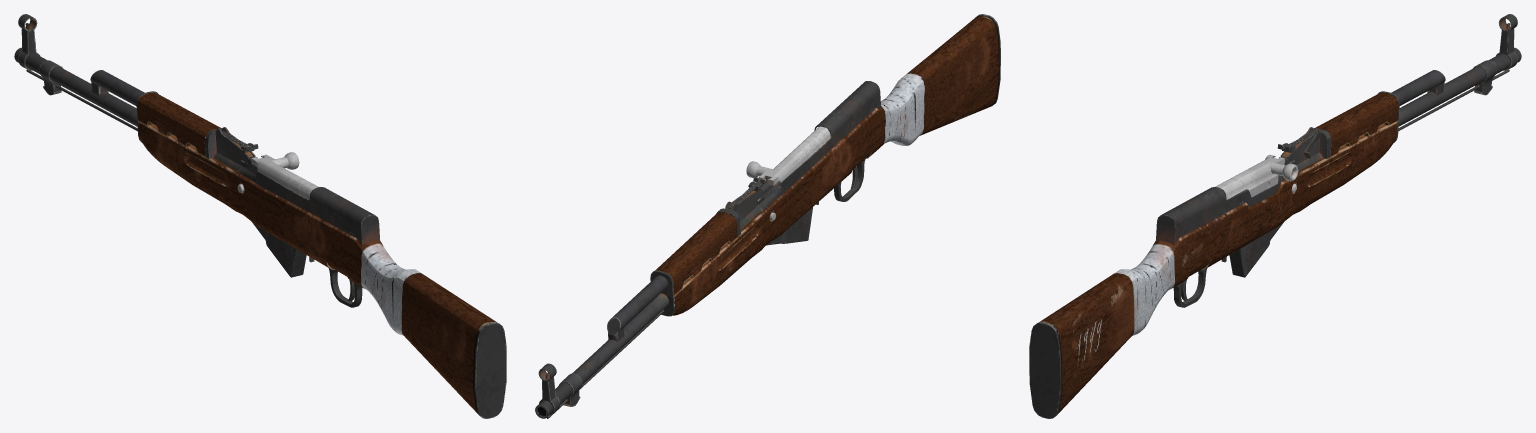
The model's file is sks.glb.
3 renders of one model, left to right at view 1: azimuth 30°, elevation 25°; view 2: azimuth 150°, elevation 25°; view 3: azimuth 330°, elevation 25°, orthographic. The views are drawn at different scales.
Size of the model in its own units: 0.0533 by 0.1367 by 1.02.
Materials: 1 (1 with a texture image).
